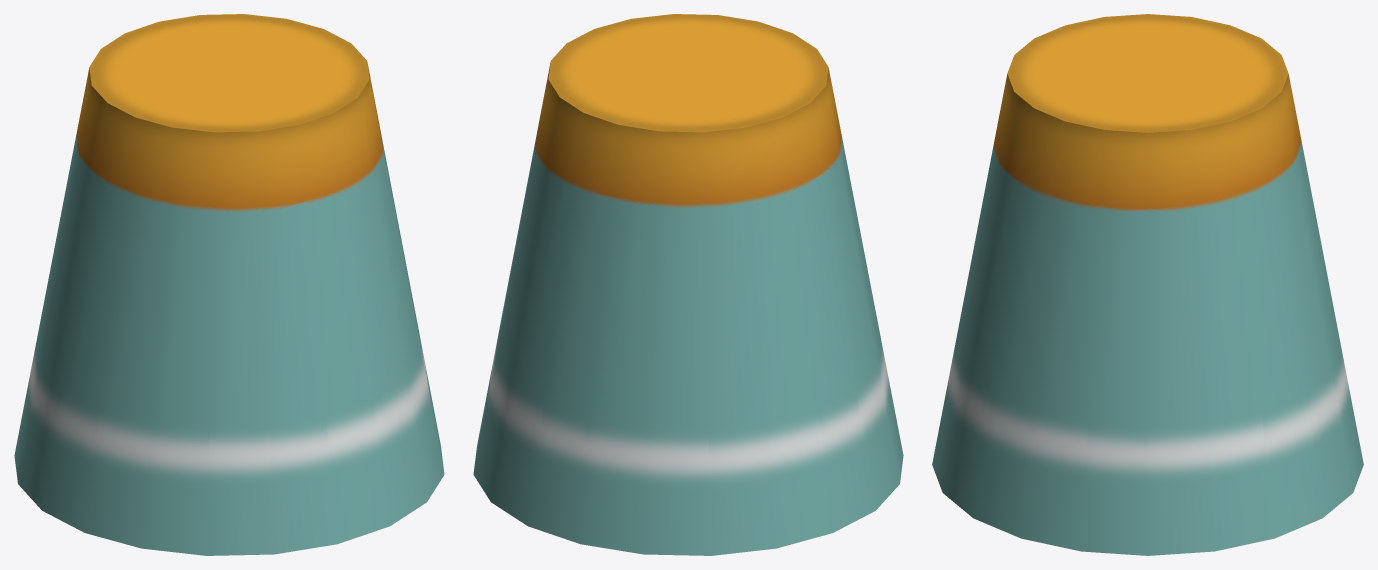
File: Cup.fbx
3 views of the same model, side by side, from view 1: azimuth 30°, elevation 25°; view 2: azimuth 150°, elevation 25°; view 3: azimuth 270°, elevation 25° (orthographic).
Parts seen in each view (by area): view 1: Cup; view 2: Cup; view 3: Cup.
Boxes of the visible parts, left/top/right/bottom form: Cup: left=14, top=14, right=444, bottom=555; Cup: left=473, top=14, right=903, bottom=555; Cup: left=932, top=14, right=1363, bottom=555.
Bounding box in the file's own units: 0.9994 × 0.9994 × 0.9994.
